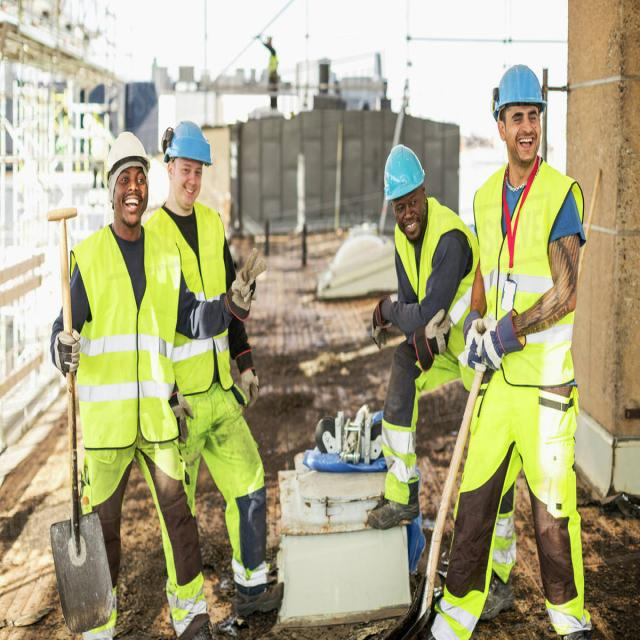Reflective-Jacket: (429, 157, 588, 640), (70, 222, 192, 480), (466, 158, 585, 393), (144, 202, 240, 410), (392, 202, 479, 369)
Safety-Helmet: (490, 59, 548, 115), (101, 125, 153, 179), (381, 140, 426, 200), (162, 116, 213, 166)
